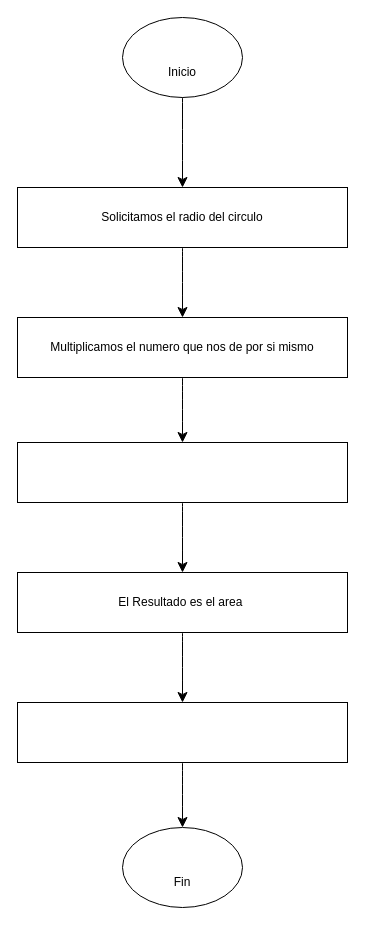
This 365x925 diagram has some shape labels left out. Each missing label, with the centre of its shape:
"Imprimimos por pantalla el area" belongs at point 182,732.
"Multiplicamos ese resultado por el número PI" belongs at point 182,472.
